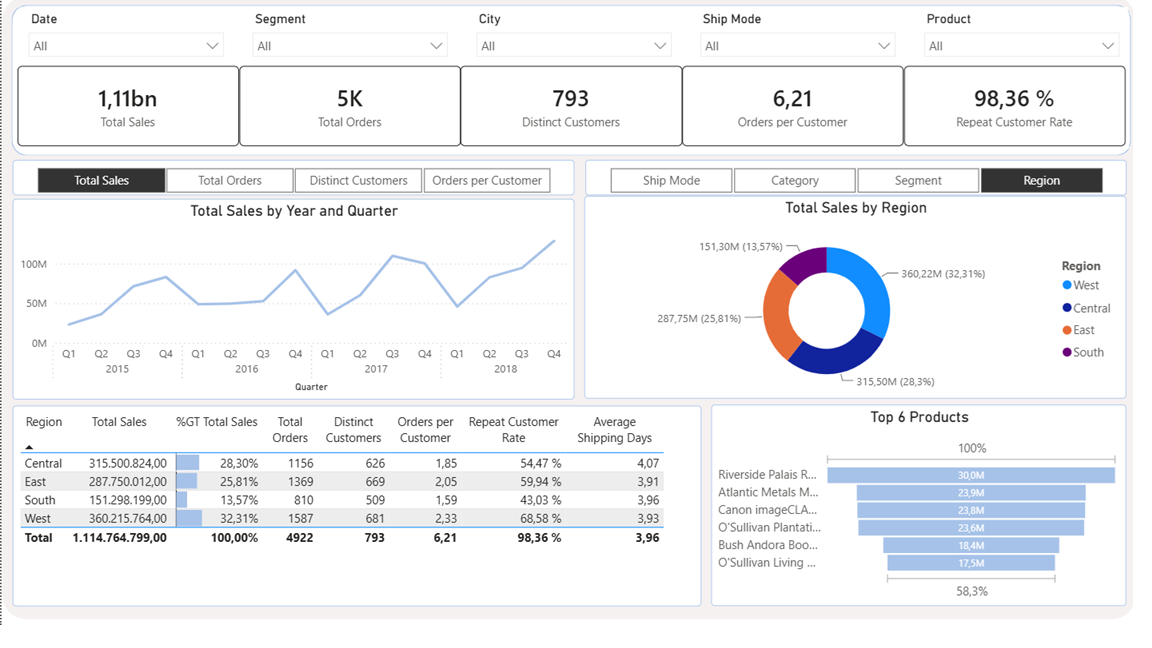

The dashboard page shown, as its layout file describes it:
{"tool":"powerbi","page":{"name":"Main","canvas":[1280,720],"ordinal":0},"visuals":[{"type":"shape","title":"Background1","box":[0,0,1280.3,703.1],"z":0},{"type":"shape","title":"BackgroundMeasures","box":[11,9.8,1263.2,170],"z":250},{"type":"cardVisual","fields":{"Data":["Table.Sales"]},"box":[18.3,78.5,249.5,90.5],"z":1000},{"type":"slicer","fields":{"Values":["DIMDate.Year Hierarchy.Year","DIMDate.Year Hierarchy.Quarter","DIMDate.Year Hierarchy.Month Short","DIMDate.Year Hierarchy.Day"]},"box":[20.4,12.8,240,60],"z":2000},{"type":"cardVisual","fields":{"Data":["Table.Customers"]},"box":[517.9,78.5,250.7,90.5],"z":3000},{"type":"slicer","fields":{"Values":["DIMCustomer.Segment"]},"box":[272.8,12.8,240,60],"z":4000},{"type":"slicer","fields":{"Values":["DIMProduct.Category Hierarchy.Category","DIMProduct.Category Hierarchy.Sub-Category","DIMProduct.Category Hierarchy.Product Name"]},"box":[1029.8,12.8,240,60],"z":5000},{"type":"slicer","fields":{"Values":["DIMShipMode.Ship Mode"]},"box":[777.5,12.8,240,60],"z":6000},{"type":"cardVisual","fields":{"Data":["Table.Total Orders"]},"box":[268.1,78.5,249.5,90.5],"z":7000},{"type":"cardVisual","fields":{"Data":["Table.% Of Repeat Customer"]},"box":[767.9,78.5,249.5,90.5],"z":8000},{"type":"cardVisual","fields":{"Data":["Table.Repeat Customer Rate"]},"box":[1017.4,78.5,249.5,90.5],"z":9000},{"type":"slicer","fields":{"Values":["FACTSales.City"]},"box":[525.1,12.8,240,60],"z":10000},{"type":"donutChart","fields":{"Category":["DIMShipMode.Ship Mode"],"Y":["MeasureTable.Total Sales"]},"box":[657.6,226,611.6,228.7],"z":11000},{"type":"slicer","fields":{"Values":["ShipMode-Category-Segment-Region.ShipMode-Category-Segment-Region"]},"box":[657.9,184.9,610.2,40],"z":12000},{"type":"lineChart","fields":{"Y":["MeasureTable.Total Sales"],"Category":["DIMDate.Dates.Year","DIMDate.Dates.Quarter","DIMDate.Dates.Month Short","DIMDate.Dates.Day"]},"box":[12.2,228.7,633.4,226.2],"z":13000},{"type":"slicer","fields":{"Values":["Parameter.Parameter"]},"box":[12.2,184.9,633.4,40],"z":14000},{"type":"tableEx","fields":{"Values":["DIMShipMode.Ship Mode","Table.Total Sales","Divide(Table.Total Sales, ScopedEval(Table.Total Sales, []))","Table.Total Orders","Table.Distinct Customers","Table.Orders per Customer","Table.Repeat Customer Rate","Table.Average Shipping Days"]},"box":[12.2,462.2,776.5,226.2],"z":15000},{"type":"funnel","title":"Top 6 Products","fields":{"Category":["DIMProduct.Product Name"],"Y":["Table.Total Sales"]},"box":[799.7,461,468.3,227.4],"z":16000}]}

Visuals, with their boxes in screenshot pixels (x1, y1, x2, y2), scaled from the page's 1280x720 canvas onto the 1152x648 screenshot:
"Background1" shape: (0,0,1151,633)
"BackgroundMeasures" shape: (10,9,1147,162)
cardVisual - Table.Sales: (16,71,241,152)
slicer - DIMDate.Year Hierarchy.Year x DIMDate.Year Hierarchy.Quarter: (18,12,234,66)
cardVisual - Table.Customers: (466,71,692,152)
slicer - DIMCustomer.Segment: (246,12,462,66)
slicer - DIMProduct.Category Hierarchy.Category x DIMProduct.Category Hierarchy.Sub-Category: (927,12,1143,66)
slicer - DIMShipMode.Ship Mode: (700,12,916,66)
cardVisual - Table.Total Orders: (241,71,466,152)
cardVisual - Table.% Of Repeat Customer: (691,71,916,152)
cardVisual - Table.Repeat Customer Rate: (916,71,1140,152)
slicer - FACTSales.City: (473,12,689,66)
donutChart - DIMShipMode.Ship Mode x MeasureTable.Total Sales: (592,203,1142,409)
slicer - ShipMode-Category-Segment-Region.ShipMode-Category-Segment-Region: (592,166,1141,202)
lineChart - MeasureTable.Total Sales x DIMDate.Dates.Year: (11,206,581,409)
slicer - Parameter.Parameter: (11,166,581,202)
tableEx - DIMShipMode.Ship Mode x Table.Total Sales: (11,416,710,620)
"Top 6 Products" funnel: (720,415,1141,620)
